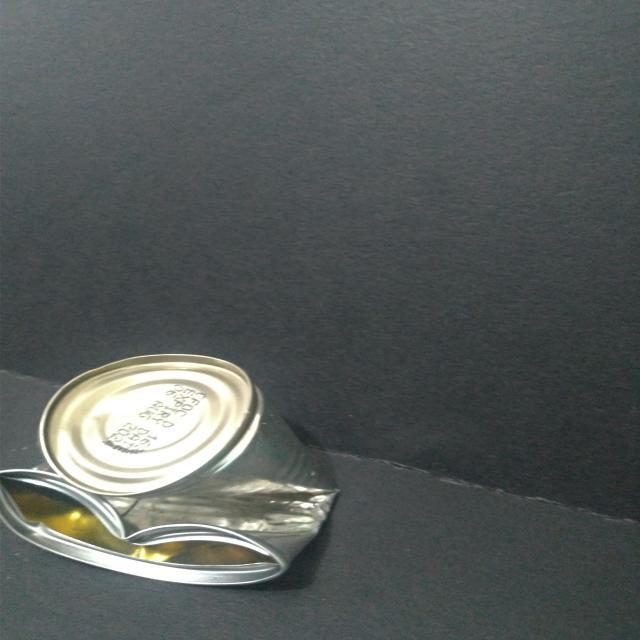metal-can: (0, 348, 345, 588)
